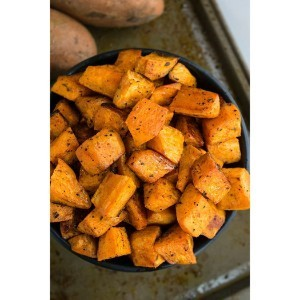sweet potato_brain food: (73, 50, 215, 257)
